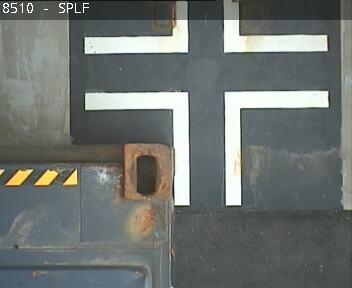groundmarker_1: (84, 91, 326, 205), (84, 1, 325, 55)
